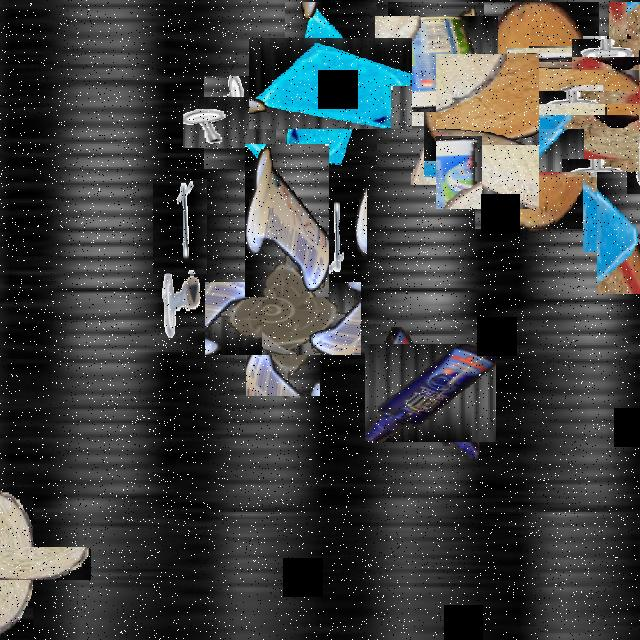glass: (267, 20, 395, 147), (597, 172, 640, 294)
metal: (194, 86, 266, 159), (153, 180, 207, 276), (317, 188, 367, 278), (590, 20, 640, 89), (160, 263, 202, 338)
plastic: (372, 336, 488, 450), (226, 260, 340, 376), (245, 144, 329, 297), (381, 9, 491, 119)
wood: (449, 28, 625, 203), (423, 67, 553, 196), (543, 75, 640, 212), (582, 46, 640, 149), (0, 517, 62, 609)
